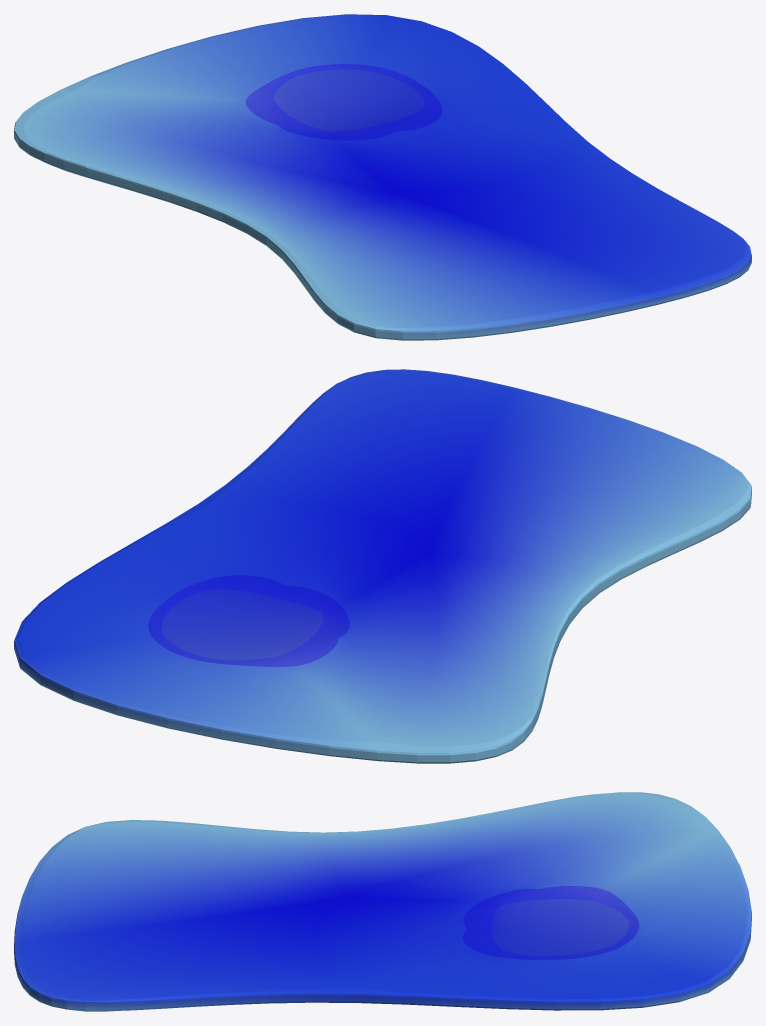
File: puddle.fbx
3 views of the same model, one above another, from view 1: azimuth 30°, elevation 25°; view 2: azimuth 150°, elevation 25°; view 3: azimuth 270°, elevation 25° (orthographic). The views are drawn at different scales.
Parts seen in each view (by area): view 1: Cube; view 2: Cube; view 3: Cube.
Boxes of the visible parts, x1,y1,x2,y2 form: Cube: [14, 14, 751, 340]; Cube: [14, 369, 751, 763]; Cube: [14, 792, 751, 1011].
Bounding box in the file's own units: 280 × 7.54 × 415.
